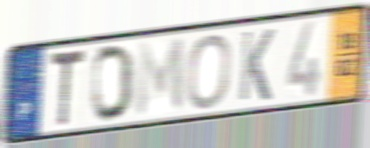4: (284, 19, 323, 100)
K: (236, 26, 277, 104)
M: (134, 35, 186, 120)
O: (185, 32, 233, 112), (90, 42, 136, 125)
T: (47, 46, 87, 131)
